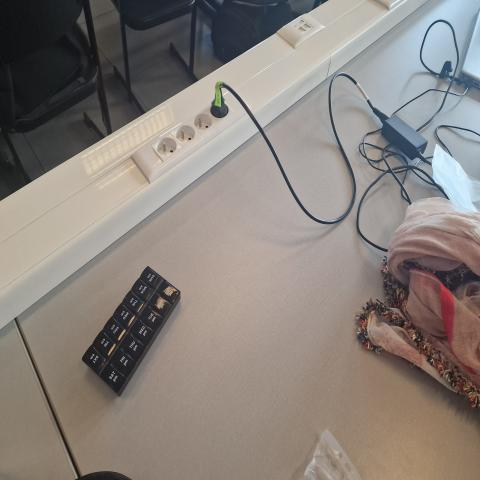Pill-box: (75, 261, 188, 406)
